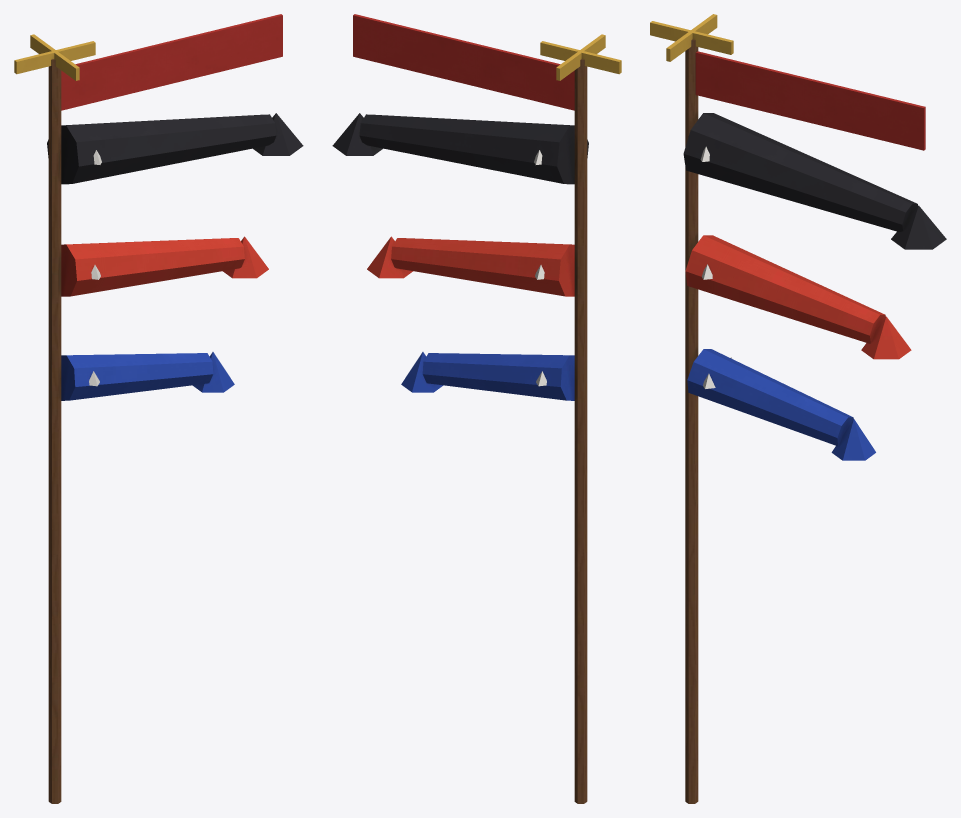
The model's file is koinobori_tex.glb.
The picture shows the model from 3 angles, left to right: view 1: azimuth 30°, elevation 25°; view 2: azimuth 150°, elevation 25°; view 3: azimuth 330°, elevation 25°; orthographic projection. The views are drawn at different scales.
Parts seen in each view (by area): view 1: koinobori; view 2: koinobori; view 3: koinobori.
Boxes of the visible parts, left/top/right/bottom form: koinobori: left=14, top=14, right=303, bottom=803; koinobori: left=332, top=14, right=621, bottom=803; koinobori: left=650, top=14, right=946, bottom=803.
Size of the model in its own units: 3.56 by 9.07 by 1.
7 materials, 7 textured.
